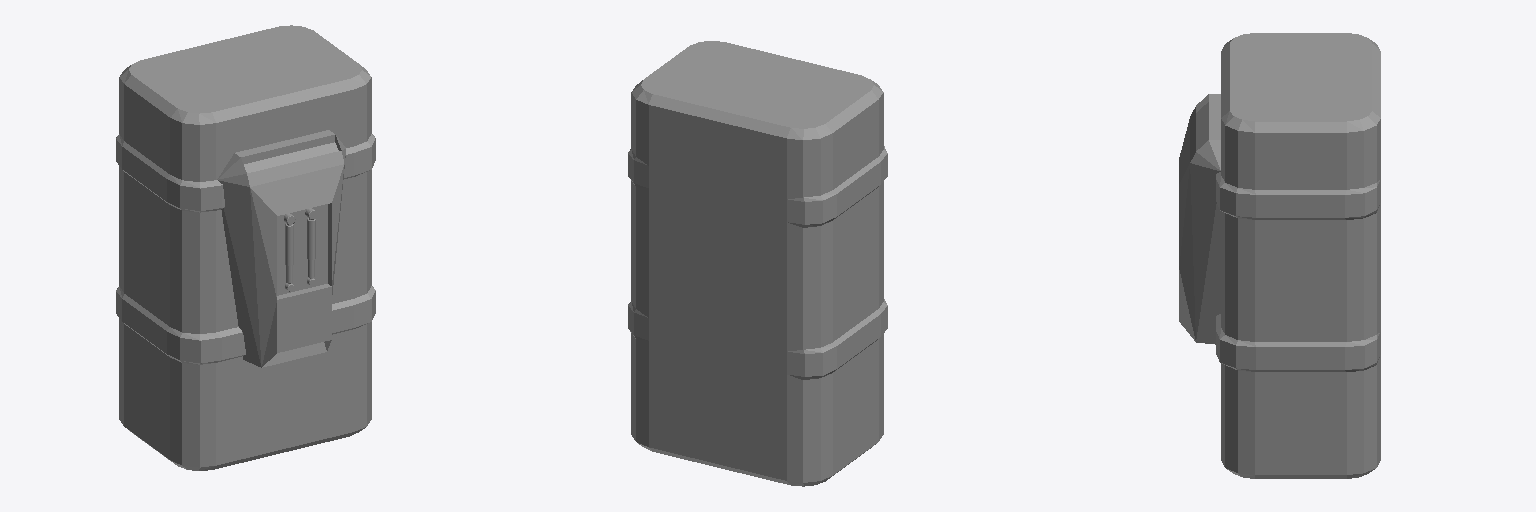
The model's file is multi_right_leg.obj.
3 renders of one model, left to right at view 1: azimuth 30°, elevation 25°; view 2: azimuth 150°, elevation 25°; view 3: azimuth 270°, elevation 25°, orthographic.
Parts seen in each view (by area): view 1: custom_left_leg.001_Cube_Cube.001; view 2: custom_left_leg.001_Cube_Cube.001; view 3: custom_left_leg.001_Cube_Cube.001.
Boxes of the visible parts, x1=… form: custom_left_leg.001_Cube_Cube.001: x1=116, y1=25, x2=375, y2=470; custom_left_leg.001_Cube_Cube.001: x1=628, y1=41, x2=887, y2=486; custom_left_leg.001_Cube_Cube.001: x1=1179, y1=33, x2=1380, y2=478.
Bounding box in the file's own units: 5.57 × 9.4 × 4.8.